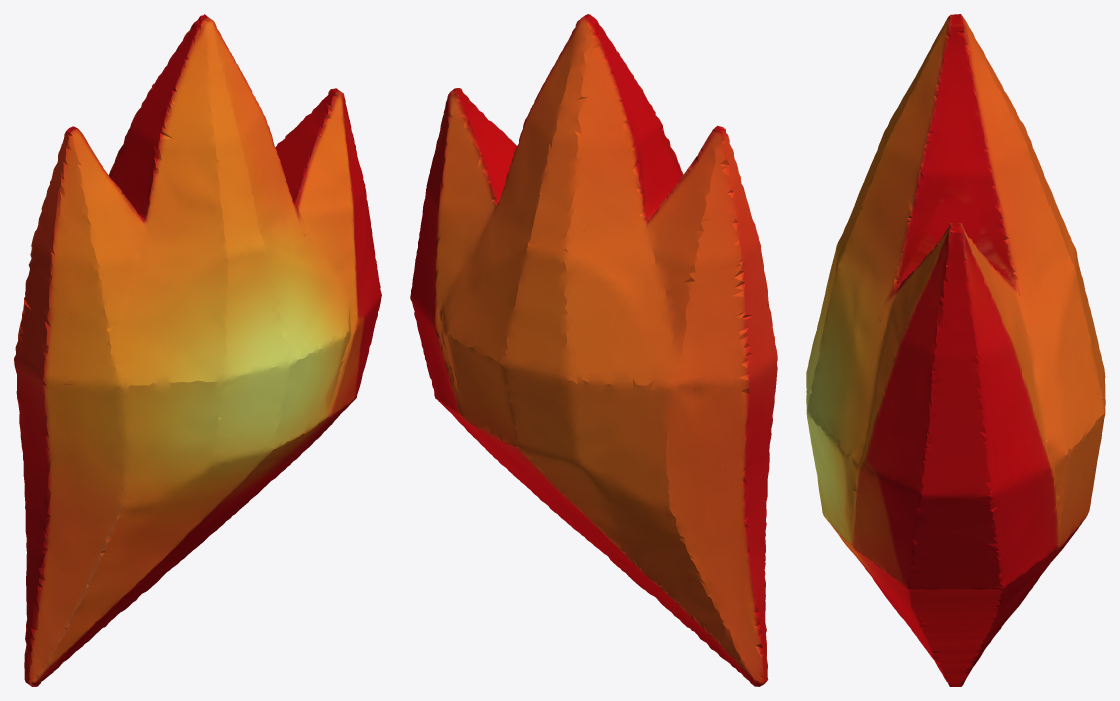
The model's file is core_fire.glb.
3 renders of one model, left to right at view 1: azimuth 30°, elevation 25°; view 2: azimuth 150°, elevation 25°; view 3: azimuth 270°, elevation 25°, orthographic. The views are drawn at different scales.
Parts seen in each view (by area): view 1: core_fire; view 2: core_fire; view 3: core_fire.
Boxes of the visible parts, <box> form: core_fire: <box>14,14,381,686</box>; core_fire: <box>410,14,777,686</box>; core_fire: <box>806,14,1105,686</box>.
Size of the model in its own units: 0.5694 by 1 by 0.3505.
1 material, 1 textured.
